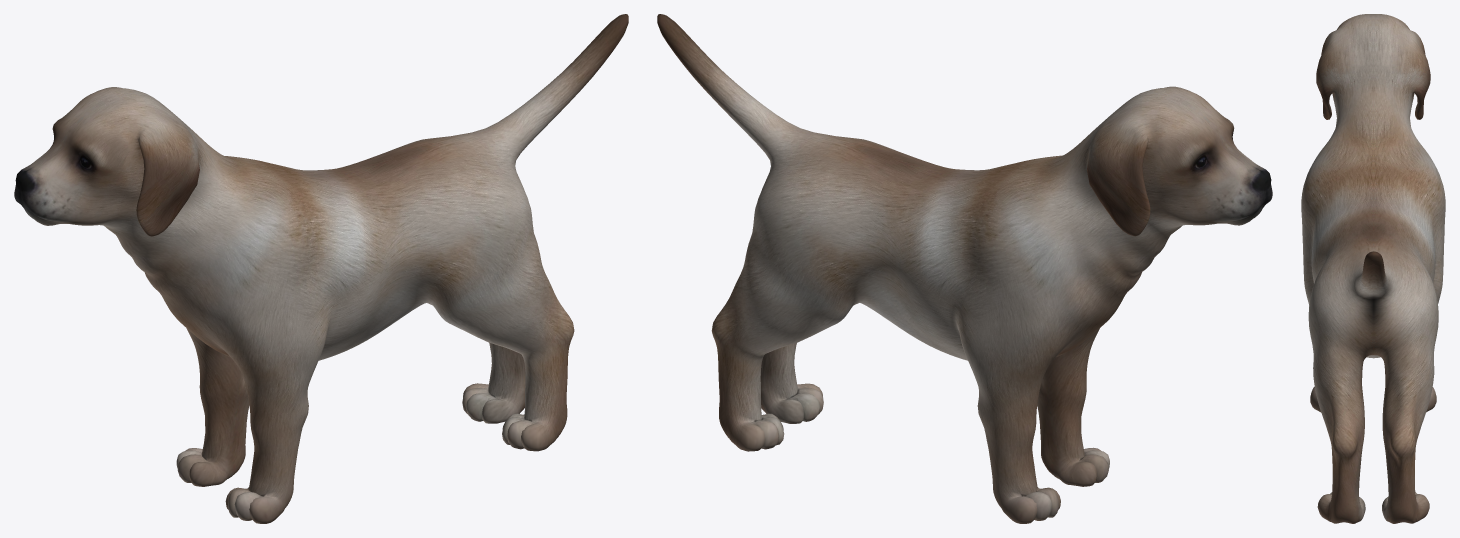
Rendered from asset.glb.
3 renders of one model, left to right at view 1: azimuth 30°, elevation 25°; view 2: azimuth 150°, elevation 25°; view 3: azimuth 270°, elevation 25°, orthographic. The views are drawn at different scales.
Parts seen in each view (by area): view 1: 037_Vray_Mesh; view 2: 037_Vray_Mesh; view 3: 037_Vray_Mesh.
Boxes of the visible parts, x1,y1,x2,y2 form: 037_Vray_Mesh: [14, 14, 628, 523]; 037_Vray_Mesh: [657, 14, 1272, 523]; 037_Vray_Mesh: [1301, 14, 1445, 523].
Size of the model in its own units: 0.9216 by 0.6205 by 0.2357.
1 material, 1 textured.
